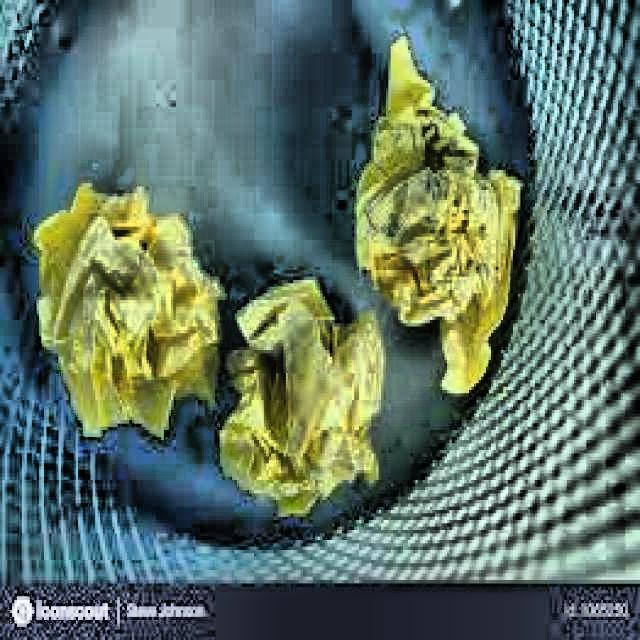Paper: (352, 34, 523, 394), (30, 177, 223, 440), (210, 270, 384, 517)
